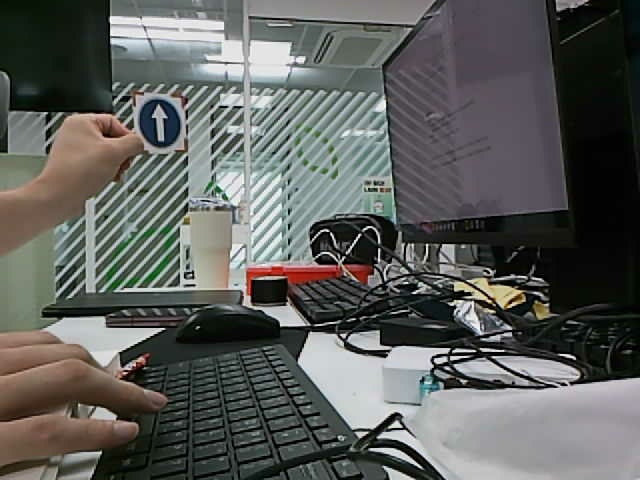go: (139, 98, 182, 149)
